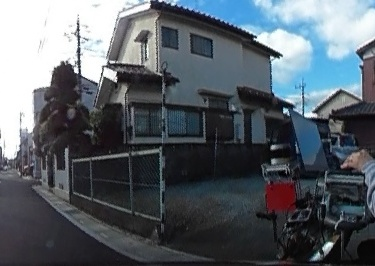person: (354, 28, 375, 266)
